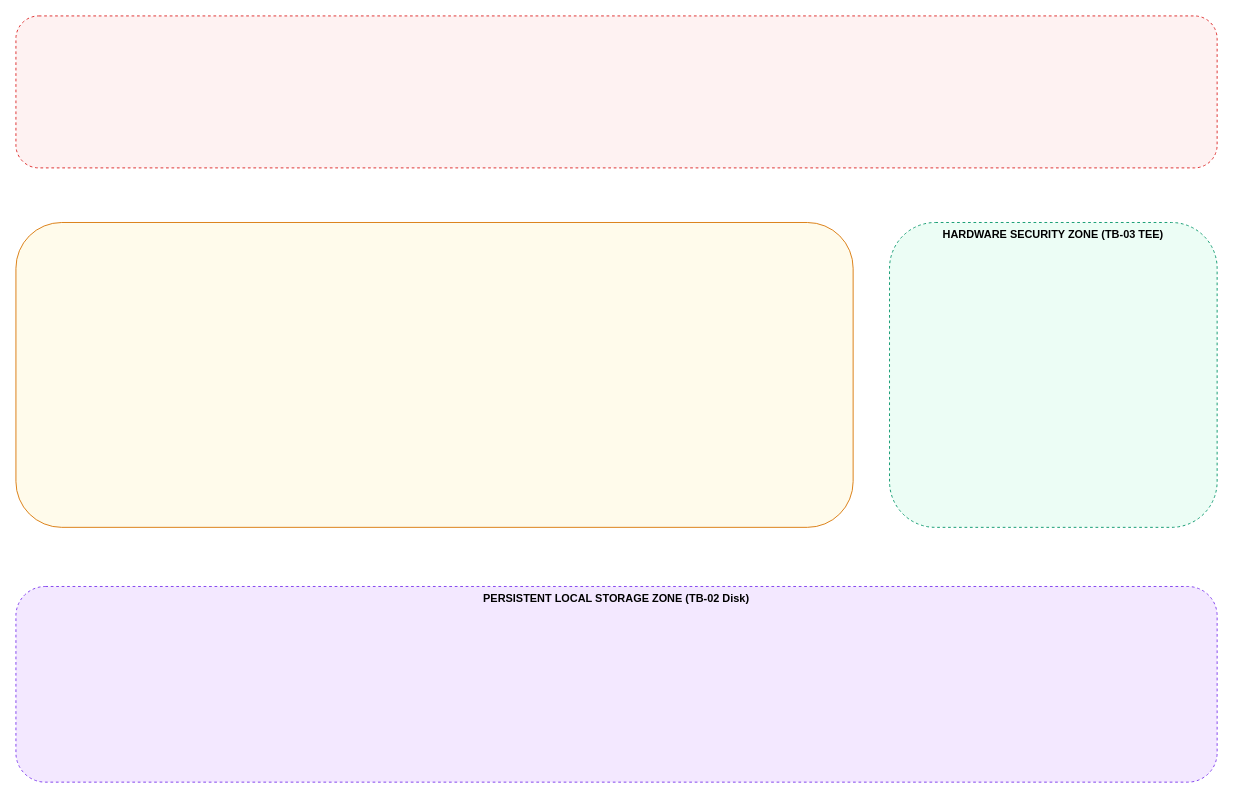
Some shapes in this 1233 by 798 pixel diagram are drawn without their labels. Here are the shapes that lost their labels. From the top down, the centre of each, then its label:
At point 616,91: "UNTRUSTED EXTERNAL ZONE (TB-01, TB-04, TB-05)".
At point 434,374: "IN-MEMORY SAFE ZONE (App Sandbox RAM)".
